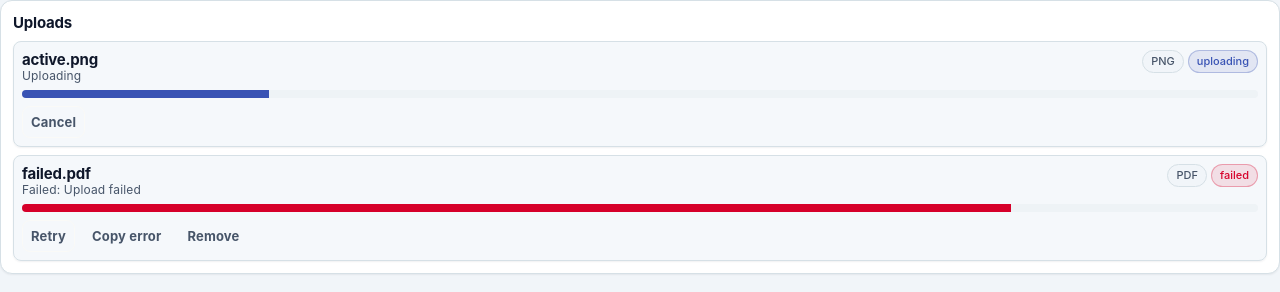
Test: UploadTray › handles cancel transition
Click the button "Cancel": (54,122) [22,106,85,138]
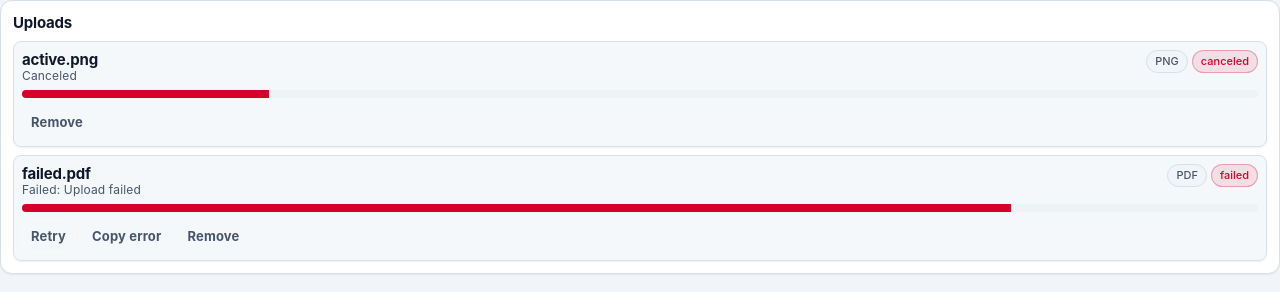
Result: the button "Remove" below "active.png" is shown at [22,106,92,138]
